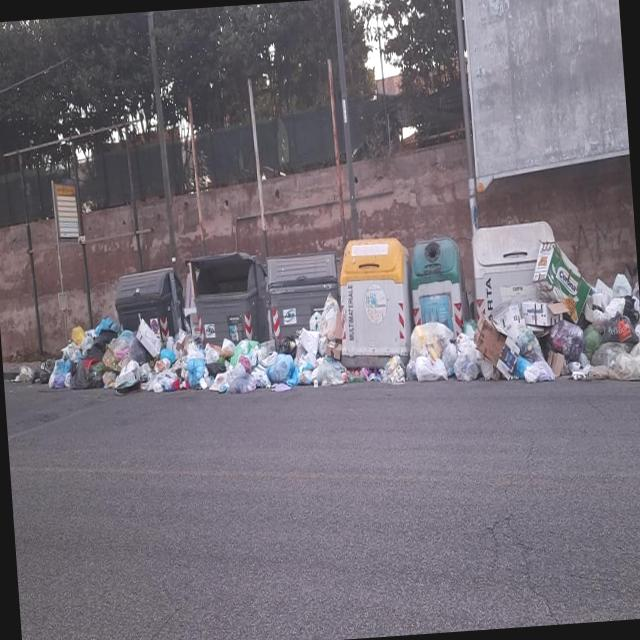garbage: (33, 224, 640, 416)
